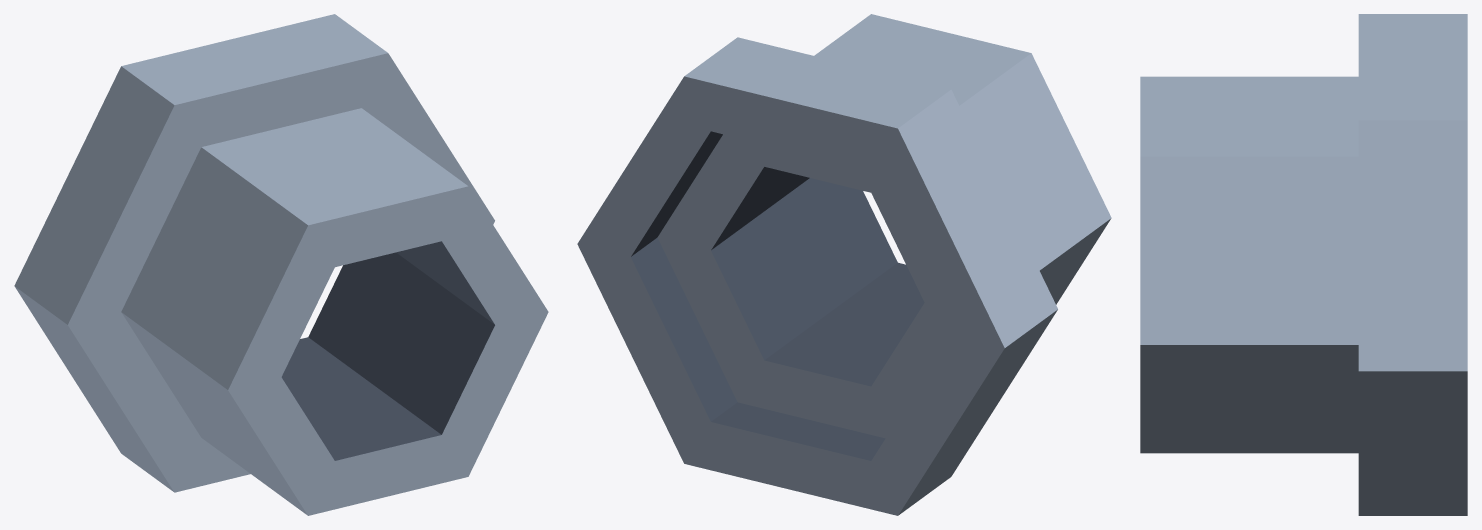
The model's file is pipe_entrance.glb.
The picture shows the model from 3 angles, left to right: view 1: azimuth 30°, elevation 25°; view 2: azimuth 150°, elevation 25°; view 3: azimuth 270°, elevation 25°; orthographic projection. The views are drawn at different scales.
Parts seen in each view (by area): view 1: pipe_entrance; view 2: pipe_entrance; view 3: pipe_entrance.
Part boxes in pixels (x1=…): pipe_entrance: x1=14, y1=14, x2=548, y2=515; pipe_entrance: x1=577, y1=14, x2=1111, y2=515; pipe_entrance: x1=1140, y1=14, x2=1467, y2=515.
Bounding box in the file's own units: 0.9238 × 0.8 × 0.6.
